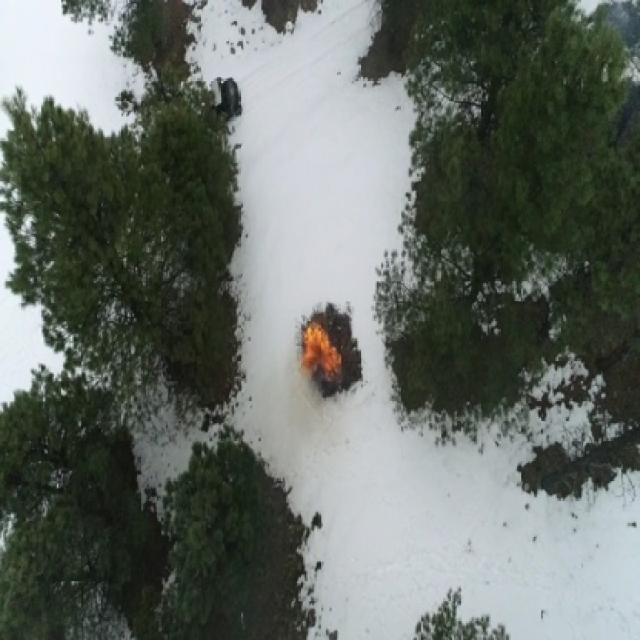Fire: (298, 320, 342, 385)
